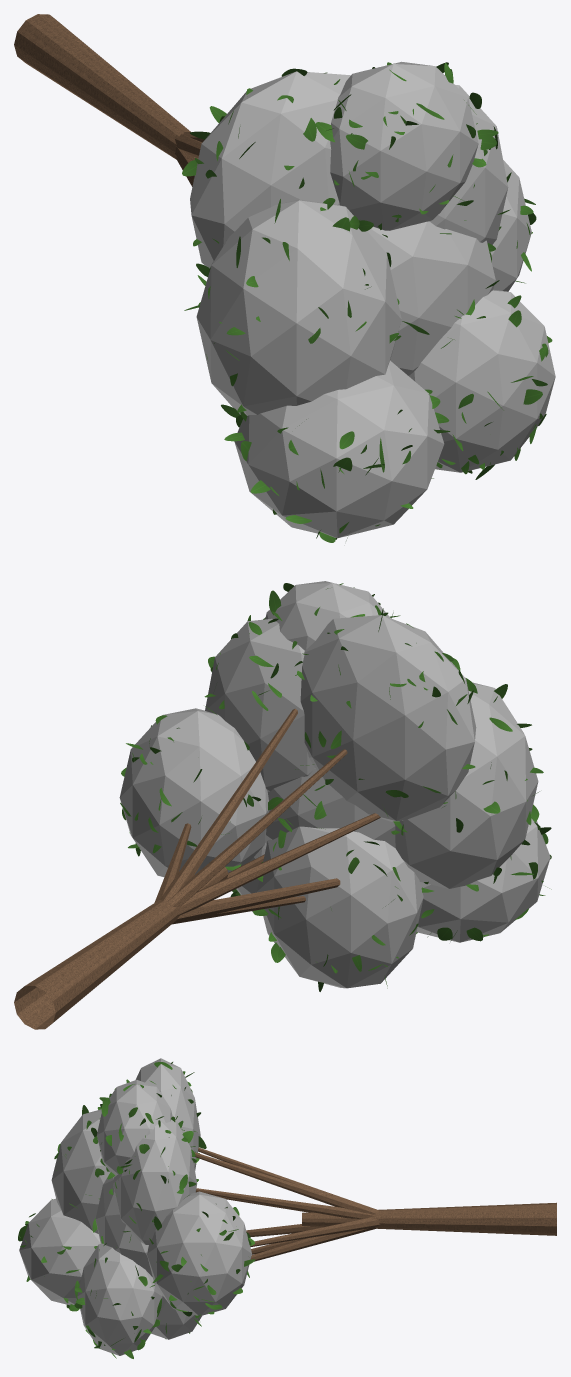
Rendered from Tree_01_Oak.obj.
The picture shows the model from 3 angles, top to bottom: view 1: azimuth 30°, elevation 25°; view 2: azimuth 150°, elevation 25°; view 3: azimuth 270°, elevation 25°; orthographic projection. The views are drawn at different scales.
Visible parts, largest first — view 1: canopy, leaves, trunk; view 2: canopy, trunk, leaves; view 3: canopy, trunk, leaves.
Part boxes in pixels (bbox=[...]): canopy: bbox=[190, 61, 555, 538]; leaves: bbox=[182, 62, 552, 542]; trunk: bbox=[14, 14, 204, 186]; canopy: bbox=[119, 581, 550, 988]; trunk: bbox=[14, 708, 380, 1029]; leaves: bbox=[120, 583, 551, 991]; canopy: bbox=[19, 1058, 251, 1355]; trunk: bbox=[194, 1147, 556, 1261]; leaves: bbox=[18, 1062, 255, 1358].
Size of the model in its own units: 4.68 by 5.01 by 9.15.
3 materials, 2 textured.
